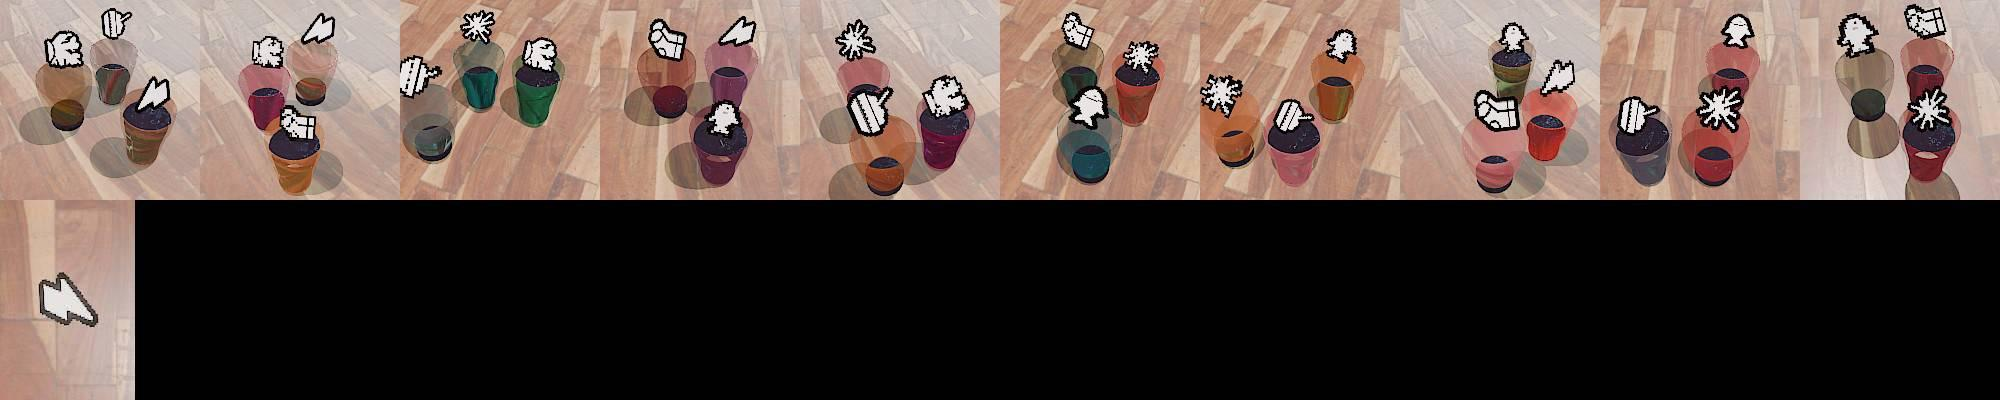icon: (36, 274, 98, 327), (846, 83, 895, 139), (1695, 85, 1744, 131), (922, 73, 968, 118), (1904, 87, 1952, 131), (1474, 88, 1522, 131), (1835, 13, 1880, 57), (1066, 85, 1110, 129), (398, 55, 441, 98), (834, 19, 878, 61), (1200, 71, 1241, 115), (648, 18, 687, 62), (1617, 93, 1658, 135), (1904, 4, 1950, 38), (1537, 57, 1577, 97), (43, 29, 84, 68), (134, 74, 172, 112), (520, 36, 560, 73), (1121, 39, 1161, 76), (1272, 97, 1312, 132), (278, 104, 316, 141), (1718, 13, 1756, 50), (705, 99, 742, 135), (459, 9, 496, 45), (1061, 11, 1096, 50), (717, 15, 758, 47), (1496, 20, 1532, 56), (250, 34, 286, 69), (300, 11, 337, 45), (1324, 28, 1358, 62), (101, 8, 133, 41)
